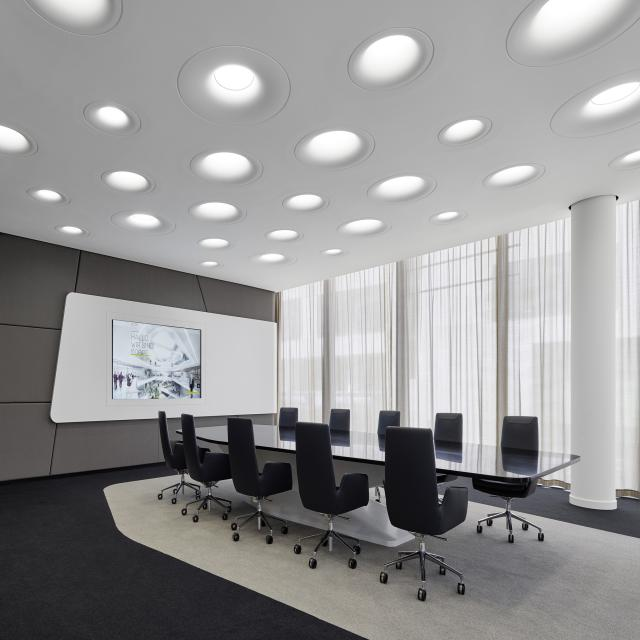chair: (379, 426, 468, 601), (293, 421, 369, 569), (473, 415, 544, 543), (226, 417, 292, 544), (178, 413, 232, 522), (157, 410, 210, 504), (329, 408, 350, 431)
